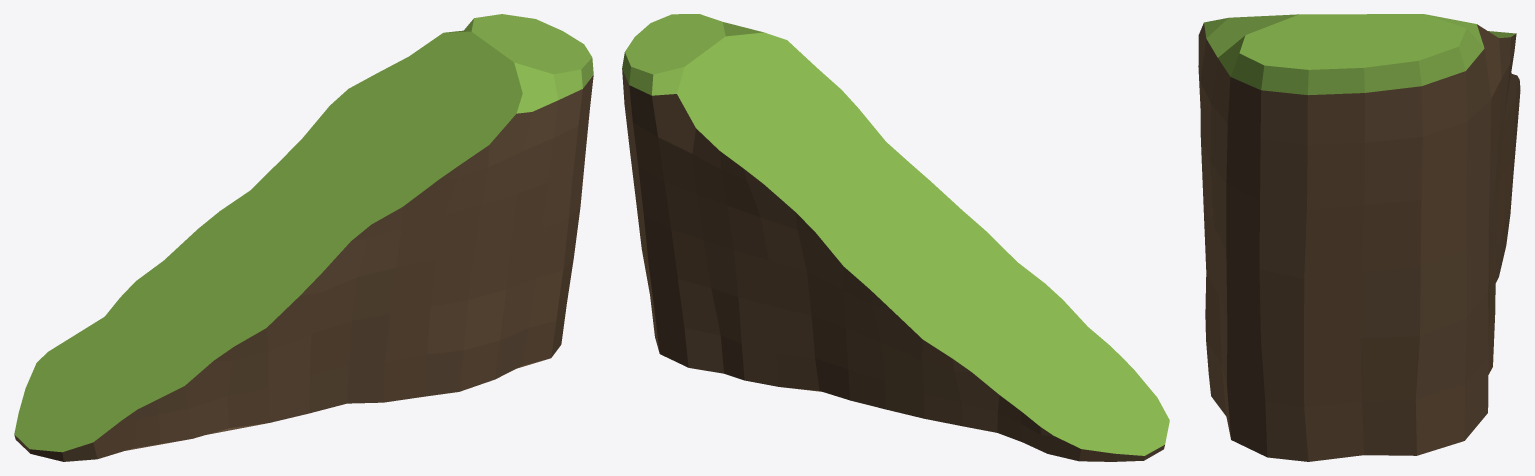
File: Cliff Slope.fbx
3 renders of one model, left to right at view 1: azimuth 30°, elevation 25°; view 2: azimuth 150°, elevation 25°; view 3: azimuth 270°, elevation 25°, orthographic. The views are drawn at different scales.
Parts seen in each view (by area): view 1: Plane; view 2: Plane; view 3: Plane.
Boxes of the visible parts, box(x1,y1,x2,y2) form: Plane: box(14, 14, 593, 461); Plane: box(622, 14, 1169, 461); Plane: box(1198, 14, 1520, 461).
Size of the model in its own units: 193 by 99.75 by 67.63.
